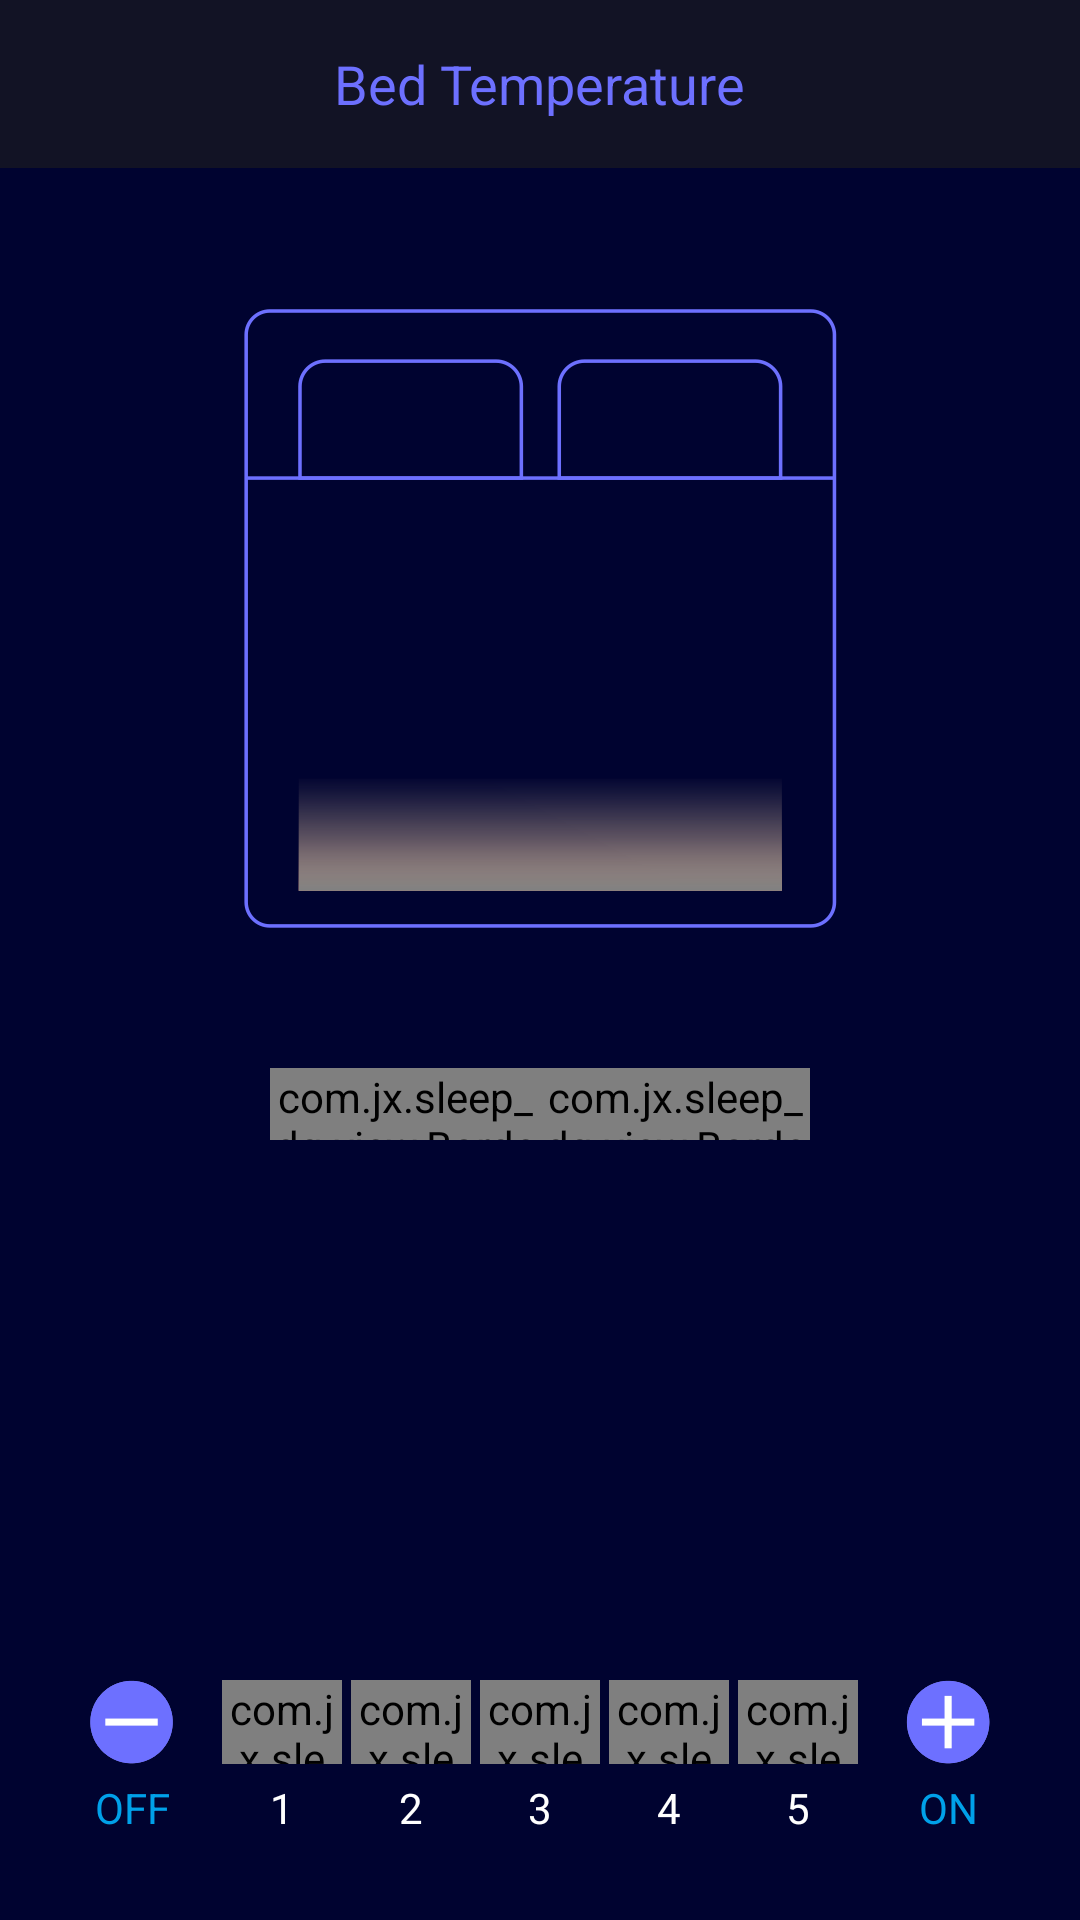

Screen size 1080 × 1920. Icon name, then its box in pixels as (x1, y1, x2, y2):
add: (907, 1681, 990, 1764)
reduce: (90, 1681, 173, 1764)
